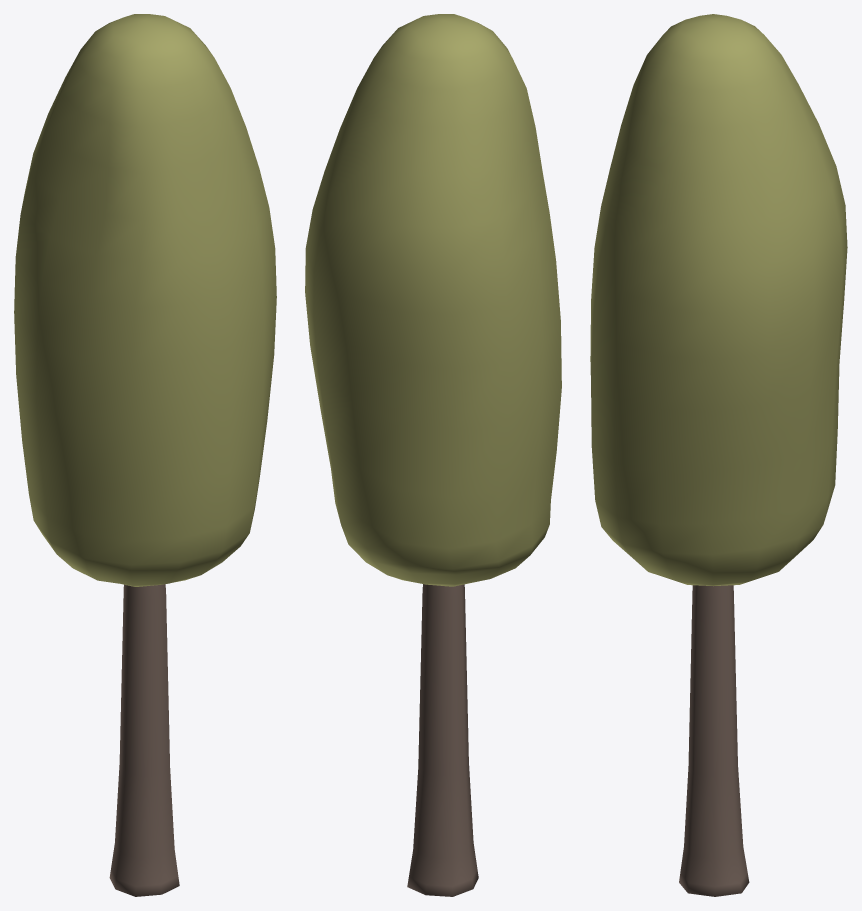
The model's file is Tree_Long_Yellow.fbx.
The picture shows the model from 3 angles, left to right: view 1: azimuth 30°, elevation 25°; view 2: azimuth 150°, elevation 25°; view 3: azimuth 270°, elevation 25°; orthographic projection.
Visible parts, largest first — view 1: Leaves, Trunk; view 2: Leaves, Trunk; view 3: Leaves, Trunk.
Boxes of the visible parts, x1,y1,x2,y2 form: Leaves: (14,14,276,586); Trunk: (109,584,179,896); Leaves: (305,14,561,586); Trunk: (407,584,478,896); Leaves: (590,14,847,586); Trunk: (679,585,749,896).
Bounding box in the file's own units: 0.6382 × 2.34 × 0.6327.
